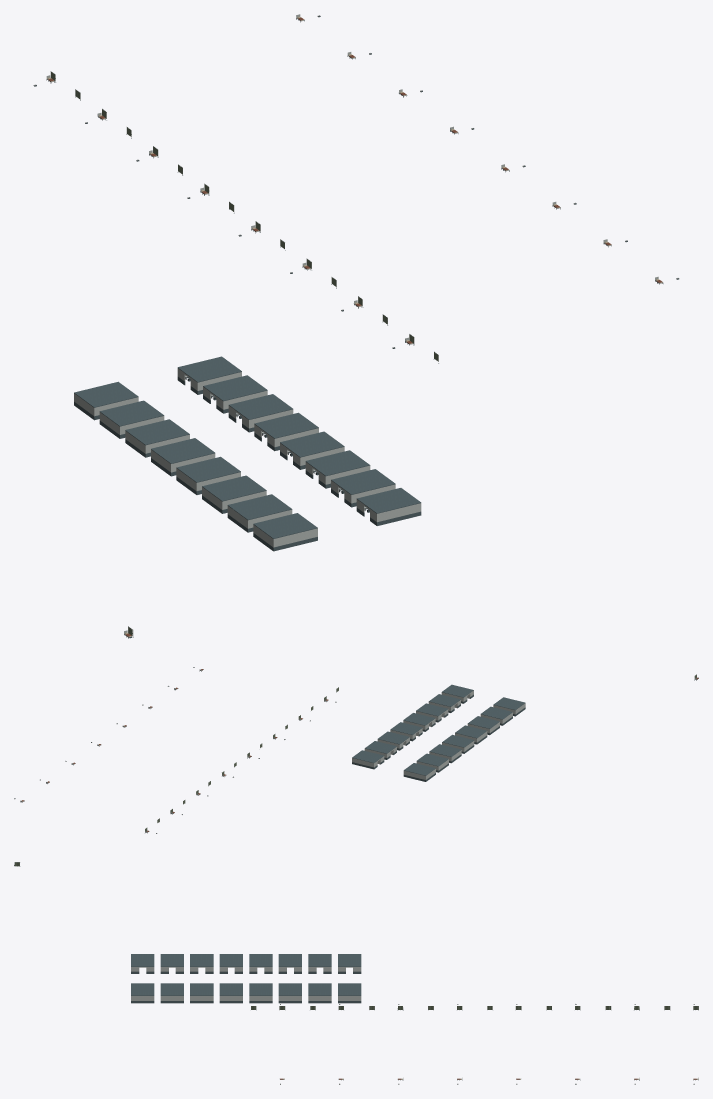
File: AST-CRW-G3-002.glb
3 renders of one model, top to bottom at view 1: azimuth 30°, elevation 25°; view 2: azimuth 150°, elevation 25°; view 3: azimuth 270°, elevation 25°, orthographic. The views are drawn at different scales.
Visible parts, largest first — view 1: C120__Shell__overhead_staff_bluegrey_paint_room, C125__Shell__overhead_staff_bluegrey_paint_room, C171__Shell__overhead_staff_bluegrey_paint_room, C173__Shell__overhead_staff_bluegrey_paint_room, C118__Shell__overhead_staff_bluegrey_paint_room, C124__Shell__overhead_staff_bluegrey_paint_room, C119__Shell__overhead_staff_bluegrey_paint_room, C122__Shell__overhead_staff_bluegrey_paint_room, C169__Shell__overhead_staff_bluegrey_paint_room, C172__Shell__overhead_staff_bluegrey_paint_room, C174__Shell__overhead_staff_bluegrey_paint_room, C175__Shell__overhead_staff_bluegrey_paint_room (+4 smaller); view 2: no part large enough to name; view 3: no part large enough to name.
Boxes of the visible parts, x1=… form: C120__Shell__overhead_staff_bluegrey_paint_room: x1=125, y1=419, x2=189, y2=445; C125__Shell__overhead_staff_bluegrey_paint_room: x1=253, y1=513, x2=317, y2=538; C171__Shell__overhead_staff_bluegrey_paint_room: x1=254, y1=412, x2=318, y2=438; C173__Shell__overhead_staff_bluegrey_paint_room: x1=305, y1=450, x2=370, y2=476; C118__Shell__overhead_staff_bluegrey_paint_room: x1=74, y1=381, x2=138, y2=407; C124__Shell__overhead_staff_bluegrey_paint_room: x1=227, y1=494, x2=292, y2=520; C119__Shell__overhead_staff_bluegrey_paint_room: x1=99, y1=400, x2=164, y2=426; C122__Shell__overhead_staff_bluegrey_paint_room: x1=176, y1=456, x2=240, y2=482; C169__Shell__overhead_staff_bluegrey_paint_room: x1=203, y1=375, x2=267, y2=401; C172__Shell__overhead_staff_bluegrey_paint_room: x1=280, y1=431, x2=344, y2=457; C174__Shell__overhead_staff_bluegrey_paint_room: x1=331, y1=469, x2=395, y2=494; C175__Shell__overhead_staff_bluegrey_paint_room: x1=356, y1=488, x2=421, y2=513.
Bounding box in the file's own units: 211 × 14.12 × 278.
28 materials, 28 textured.
